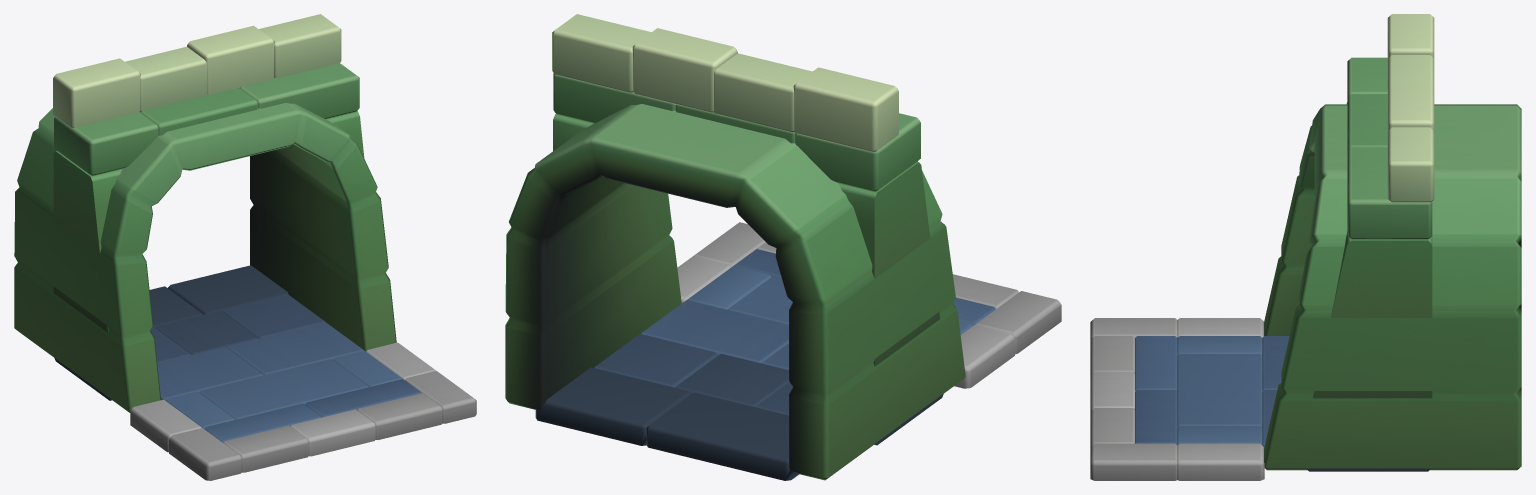
Rendered from doorway_entrance_dark_walkable.fbx.
3 views of the same model, side by side, from view 1: azimuth 30°, elevation 25°; view 2: azimuth 150°, elevation 25°; view 3: azimuth 270°, elevation 25° (orthographic). The views are drawn at different scales.
Visible parts, largest first — view 1: doorway_entrance_dark_walkable; view 2: doorway_entrance_dark_walkable; view 3: doorway_entrance_dark_walkable.
Part boxes in pixels (x1,y1,x2,y2): doorway_entrance_dark_walkable: (14, 14, 476, 480); doorway_entrance_dark_walkable: (505, 14, 1061, 480); doorway_entrance_dark_walkable: (1090, 14, 1521, 480).
Bounding box in the file's own units: 405 × 420 × 508.
